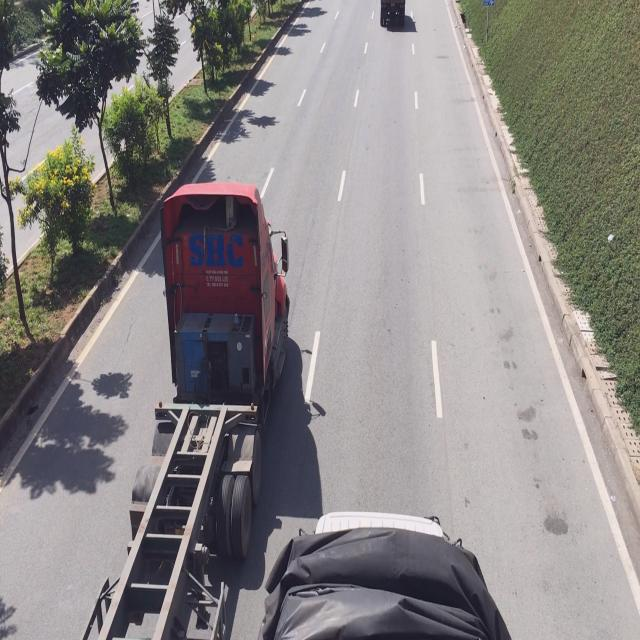truck: (80, 178, 290, 640), (260, 514, 508, 636), (377, 0, 406, 30)
